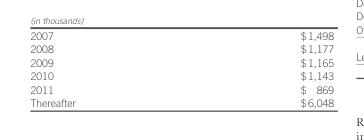table: (29, 28, 333, 108)
table column: (29, 28, 187, 108), (187, 28, 333, 108)
table row: (29, 41, 333, 55), (29, 68, 333, 82), (29, 28, 333, 41), (29, 55, 333, 68), (29, 82, 333, 95), (29, 95, 333, 108)
